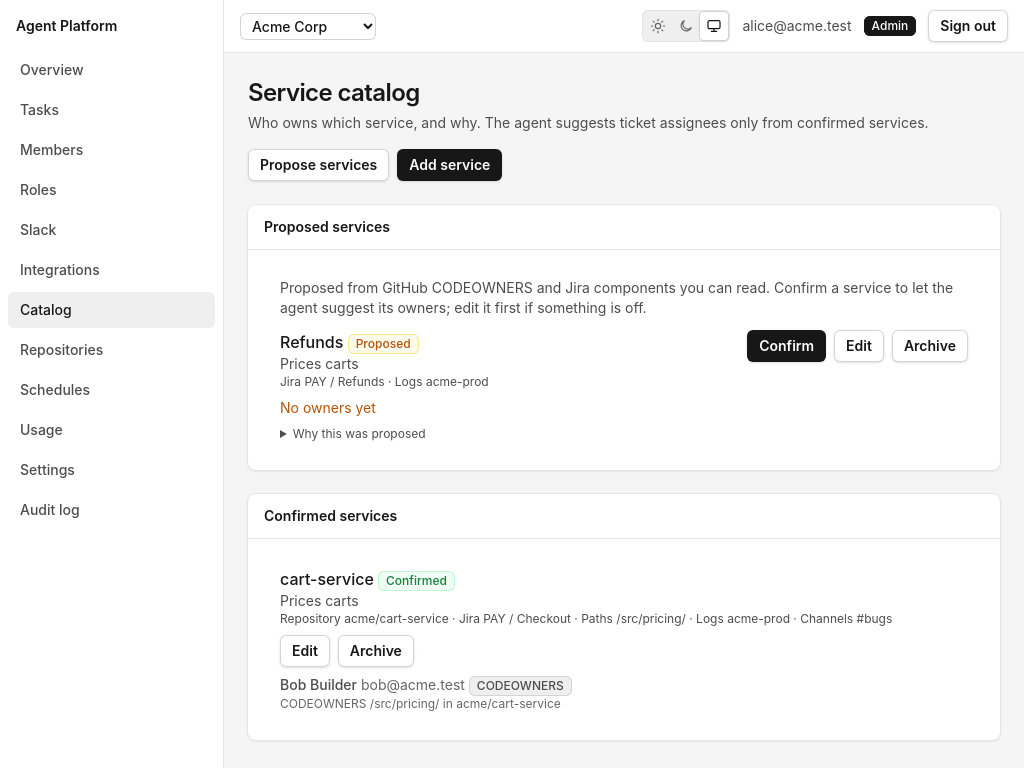
Test: Catalog page › lists proposals first with their evidence and lets admins confirm them
Check: the text "No owners yet" is shown, box [280,399,376,416]
Click the button "Confirm" at (787, 346), box [747,330,826,362]
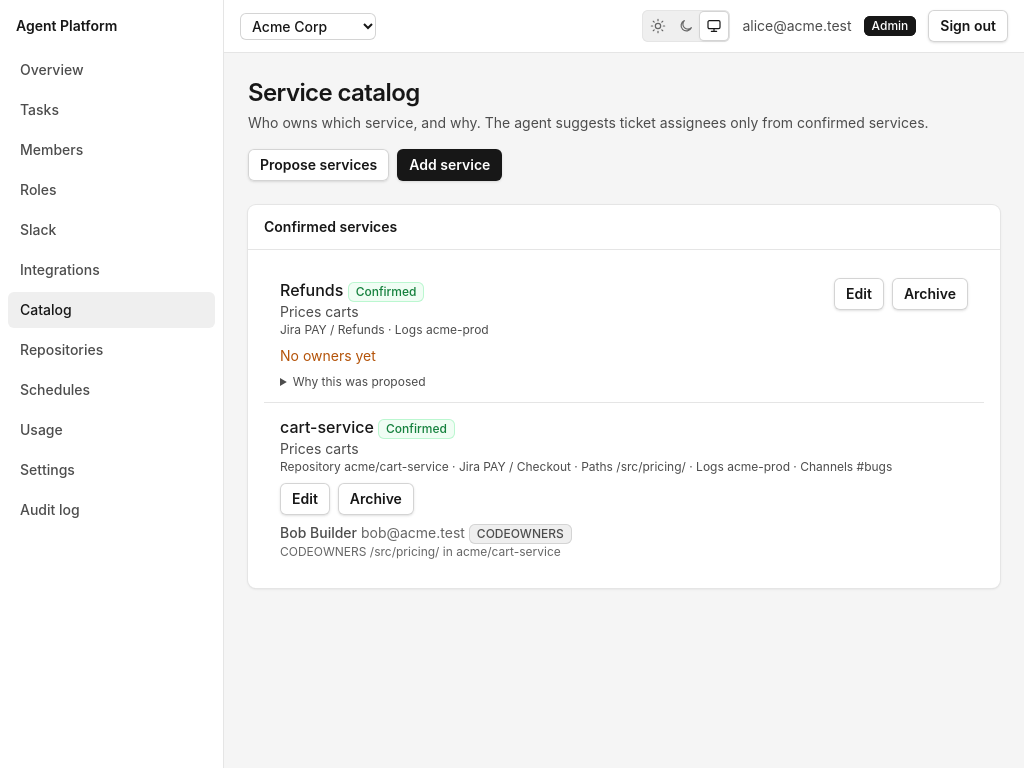
Check: the list item "Refunds" is shown, box [264,266,984,403]
Check: the heading "Proposed services" is gone
